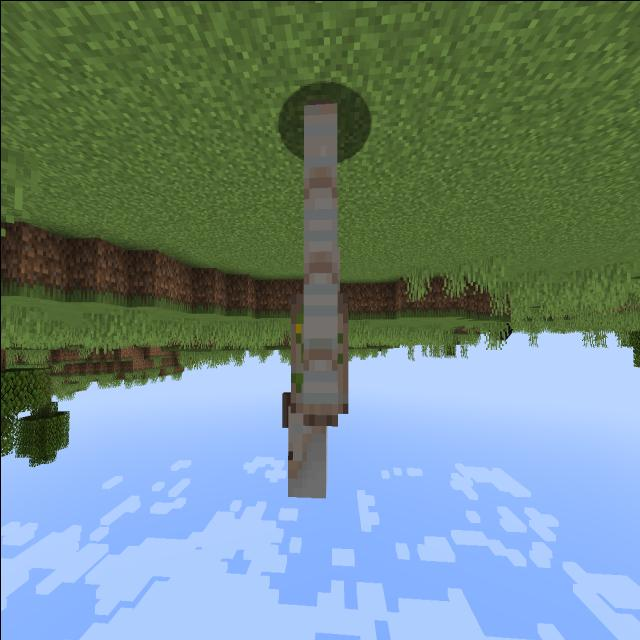iron golem: (271, 76, 367, 516)
